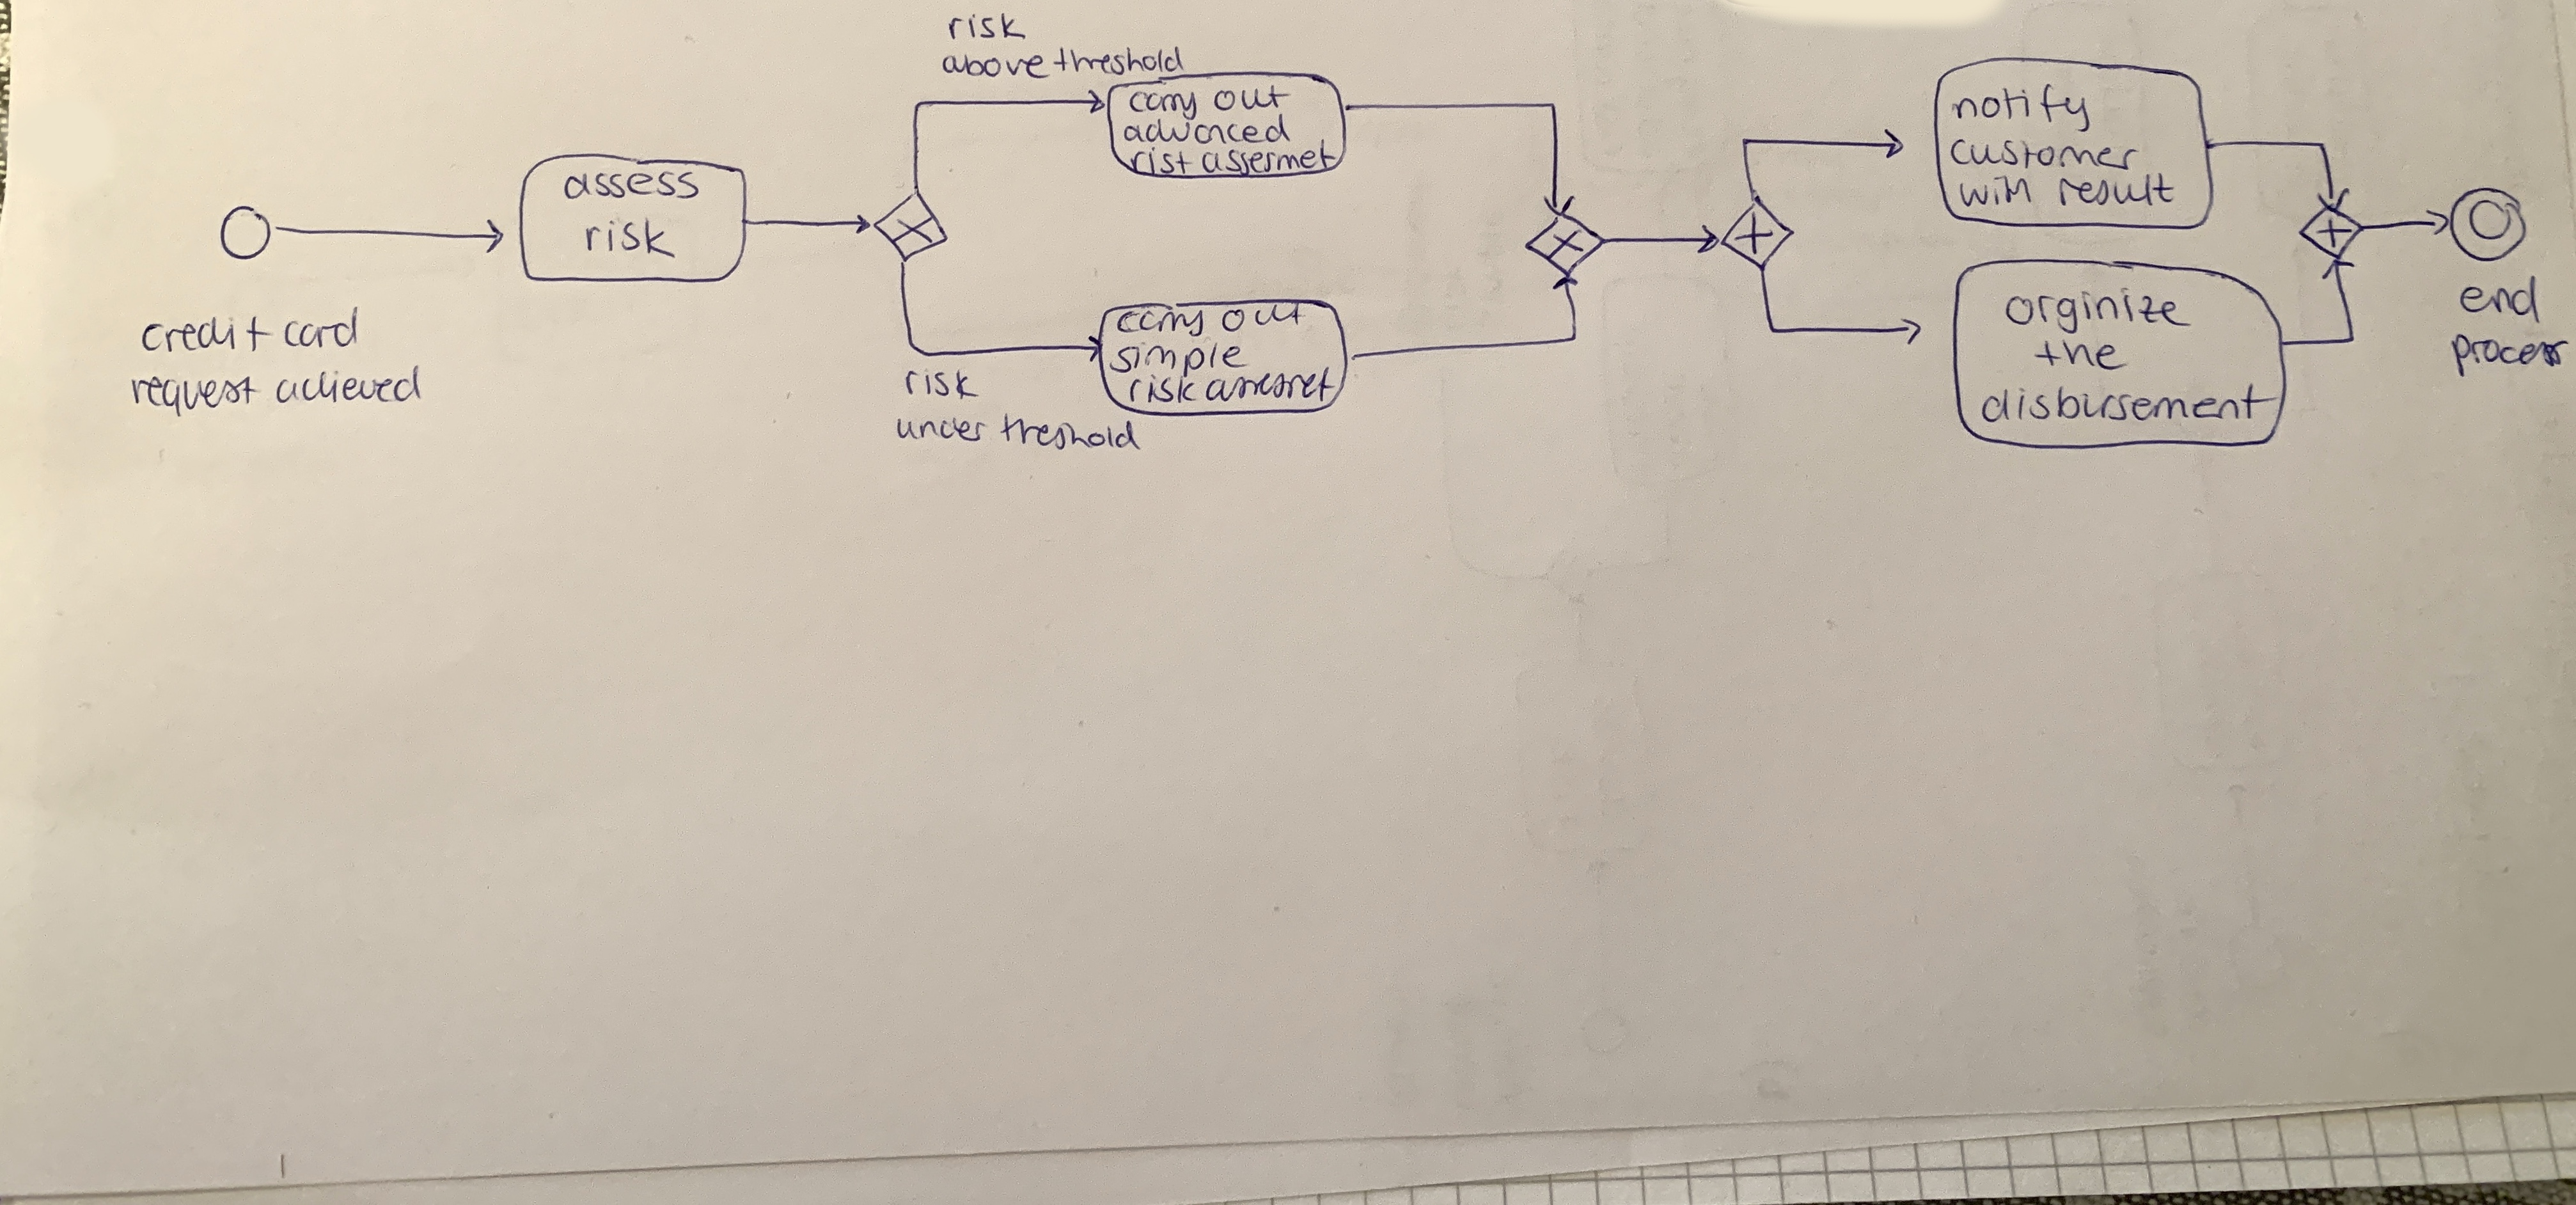above: (938, 49, 1055, 84)
achieved: (273, 362, 424, 411)
advanced: (1120, 110, 1295, 148)
assesmet: (1198, 135, 1341, 179)
assess: (560, 168, 703, 202)
assesset: (1201, 363, 1341, 408)
card: (279, 302, 365, 353)
carry: (1112, 307, 1209, 340), (1127, 87, 1201, 123)
credit: (136, 311, 274, 357)
customer: (1947, 136, 2142, 173)
disbursement: (1976, 378, 2284, 429)
end: (2454, 270, 2545, 329)
notify: (1947, 79, 2095, 138)
orginize: (2001, 283, 2196, 339)
out: (1217, 296, 1309, 335), (1209, 82, 1295, 115)
process: (2448, 330, 2571, 381)
request: (126, 370, 264, 421)
result: (2054, 169, 2180, 210)
risk: (582, 214, 678, 263), (900, 367, 982, 404), (943, 8, 1028, 44), (1125, 373, 1201, 406)
rist: (1127, 145, 1196, 179)
simple: (1106, 339, 1252, 381)
the: (2031, 334, 2127, 373)
threshold: (1048, 43, 1186, 79)
treshold: (994, 409, 1145, 455)
under: (892, 413, 991, 447)
with: (1957, 173, 2035, 210)
